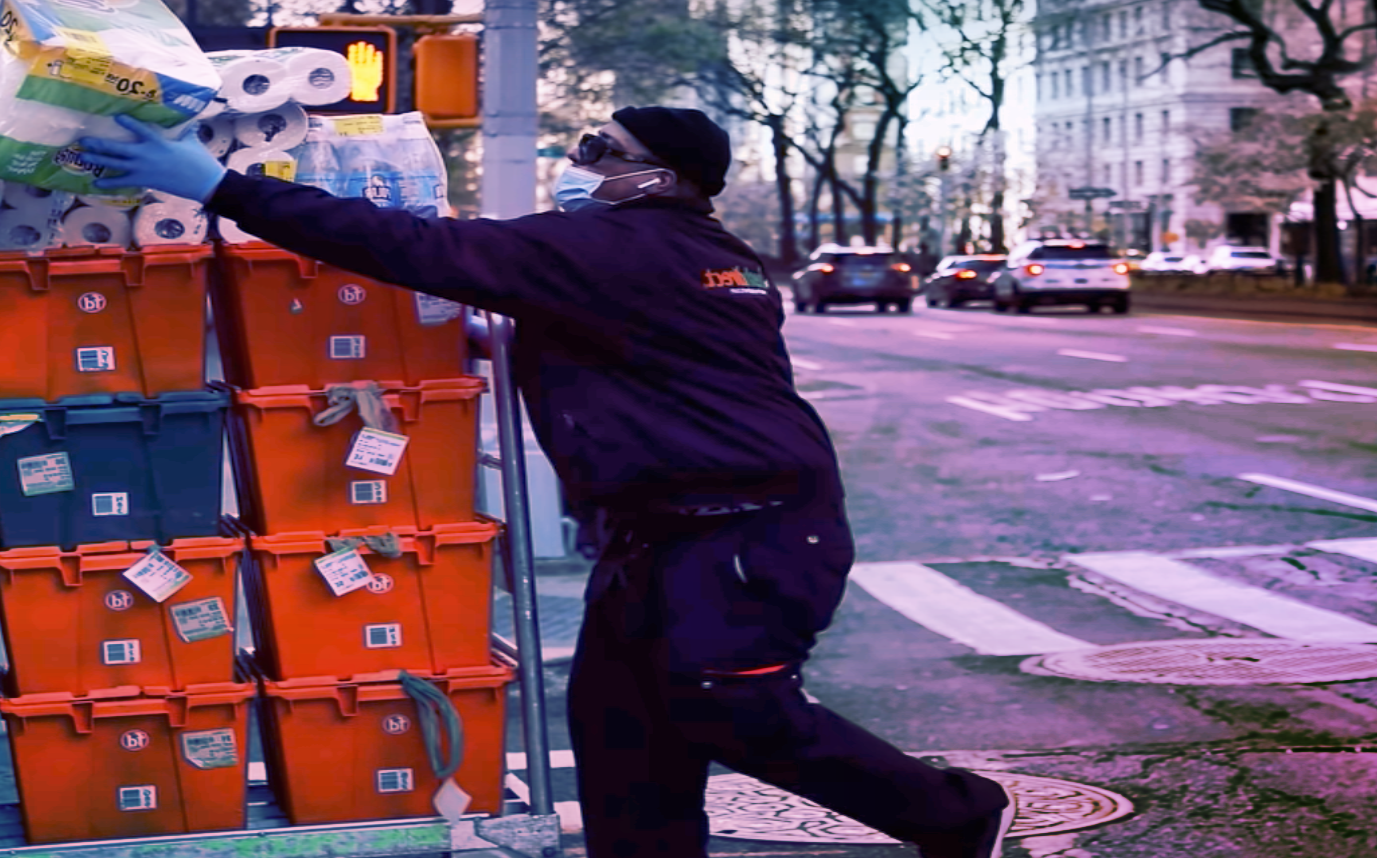mask_weared_incorrect: (550, 104, 728, 217)
